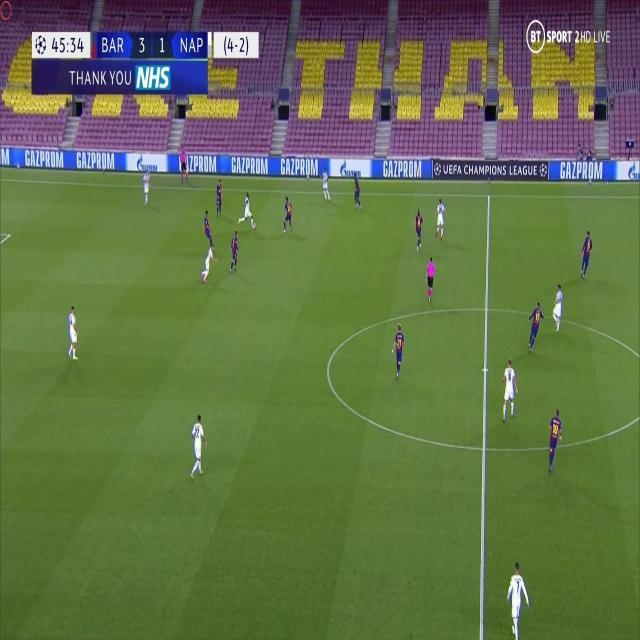player: (505, 557, 530, 638), (189, 411, 207, 479), (546, 404, 562, 474), (501, 355, 517, 423), (525, 299, 544, 352), (391, 321, 406, 381), (65, 301, 79, 363), (580, 228, 594, 281), (550, 281, 564, 333), (199, 244, 217, 284), (201, 210, 216, 254), (433, 196, 447, 241), (240, 189, 255, 231), (139, 165, 153, 204), (412, 206, 424, 251), (281, 194, 293, 234), (230, 229, 240, 275), (352, 170, 363, 210), (214, 177, 224, 217), (320, 165, 331, 201)
referee: (424, 253, 436, 303), (179, 146, 189, 185)
